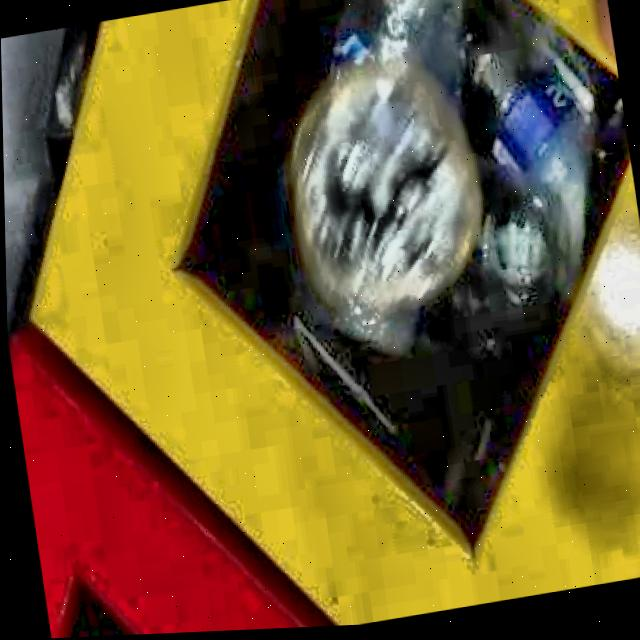plastic: (290, 54, 481, 322)
